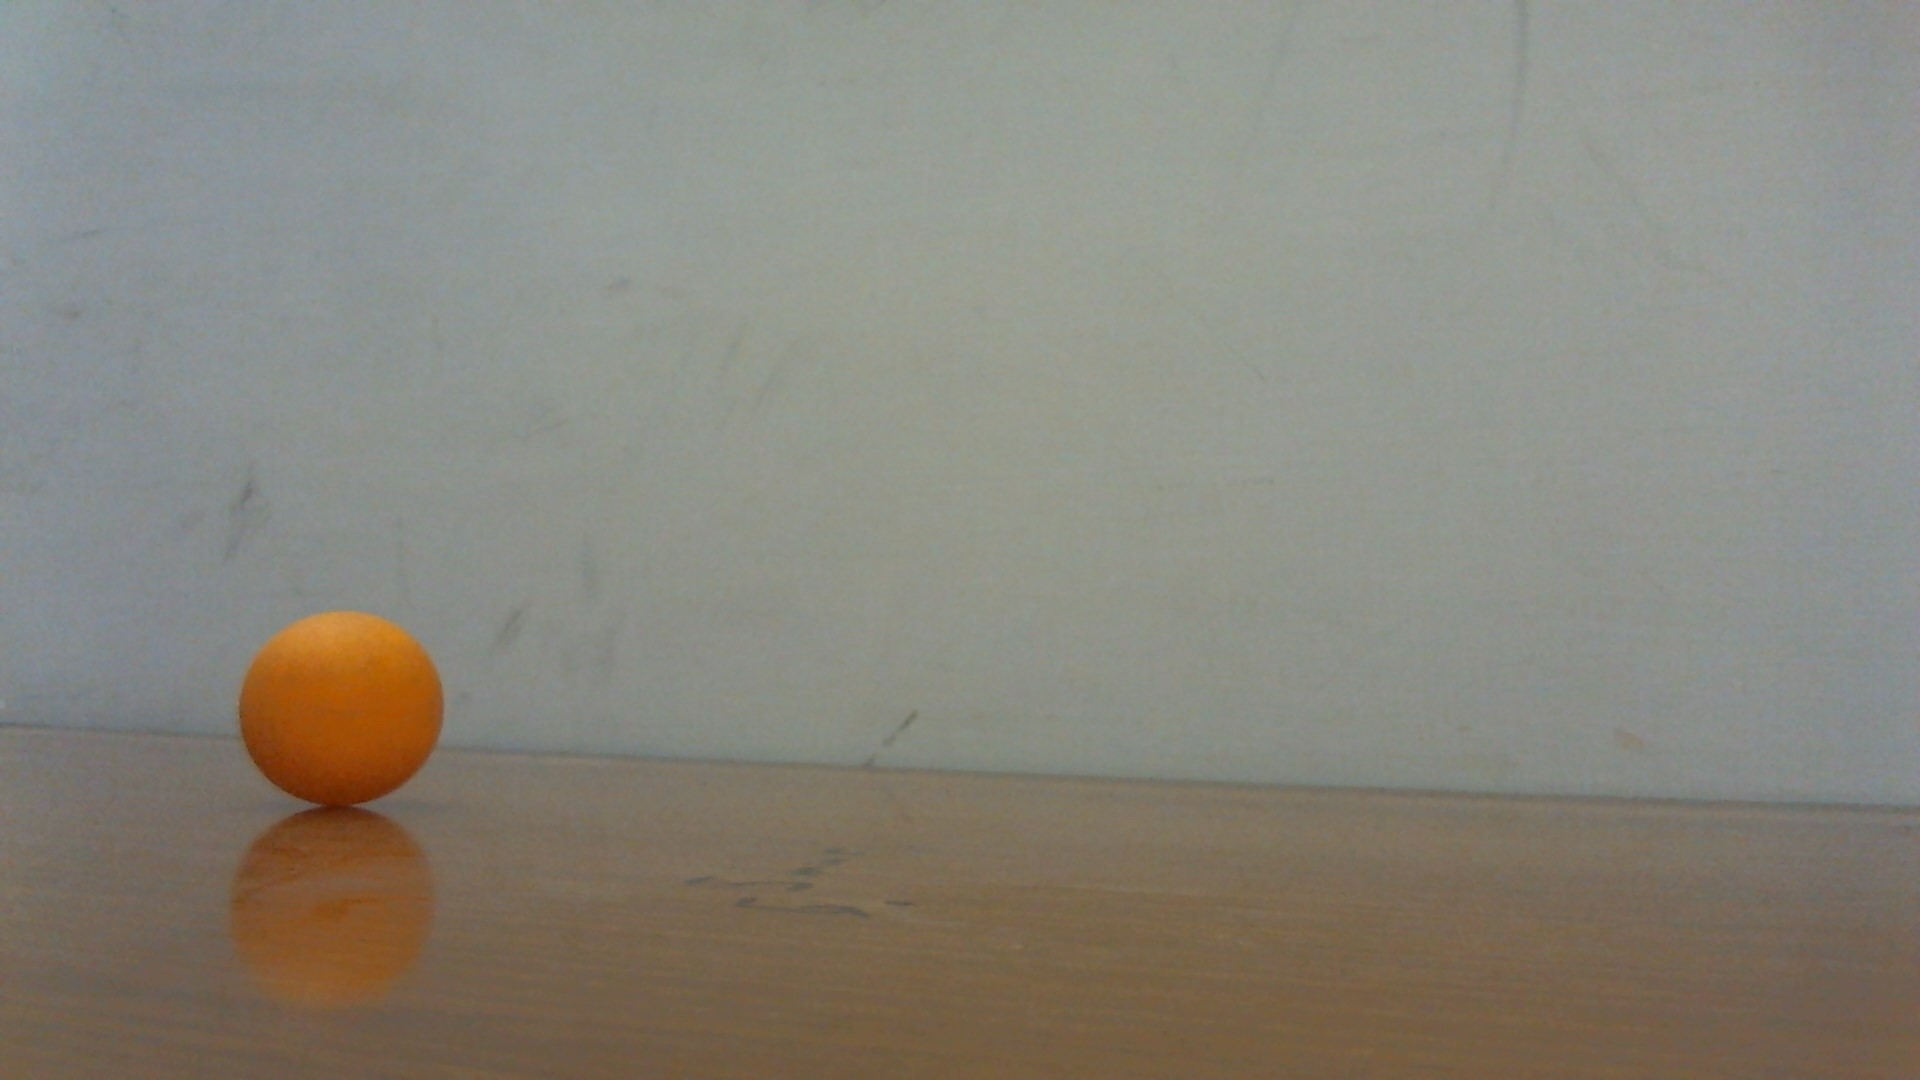ball: (239, 611, 448, 810)
